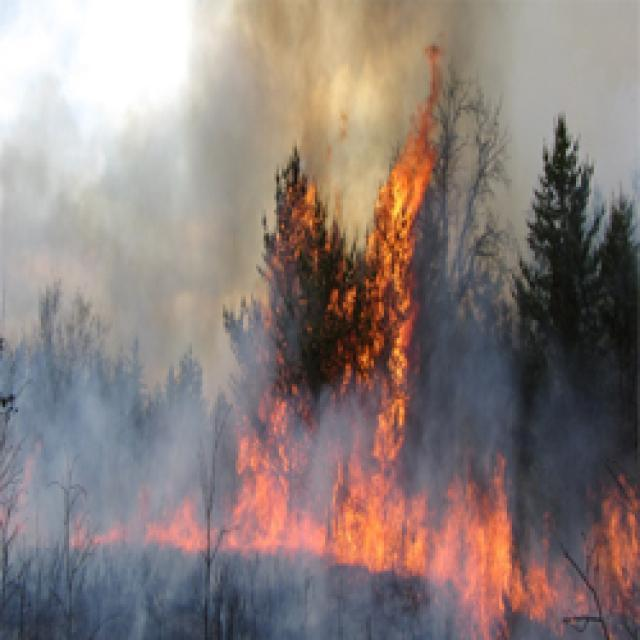Fire: (226, 51, 444, 574), (435, 450, 568, 640), (568, 473, 639, 640), (67, 490, 146, 548), (0, 437, 38, 533)
Smoke: (0, 86, 224, 492), (445, 105, 640, 469), (172, 0, 374, 221), (372, 0, 504, 109)
